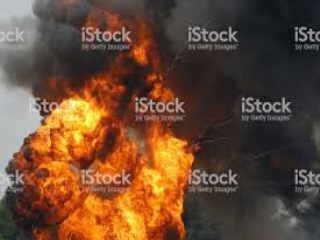fire: (20, 96, 190, 237)
smoke: (11, 6, 169, 90)
